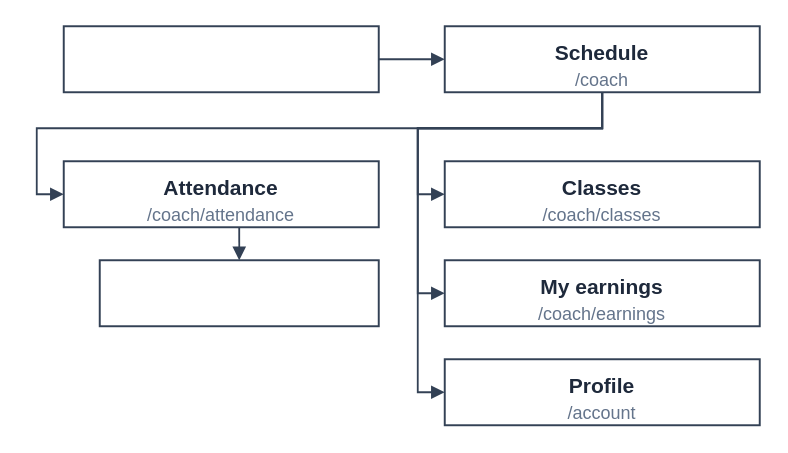
Some shapes in this 788 by 453 pixel diagram are drawn without their labels. The centre of each missing label's shape, as x and y in pixels:
"Sign in /login" belongs at (x=220, y=59).
"Student progress /coach/student/$id" belongs at (x=238, y=293).
